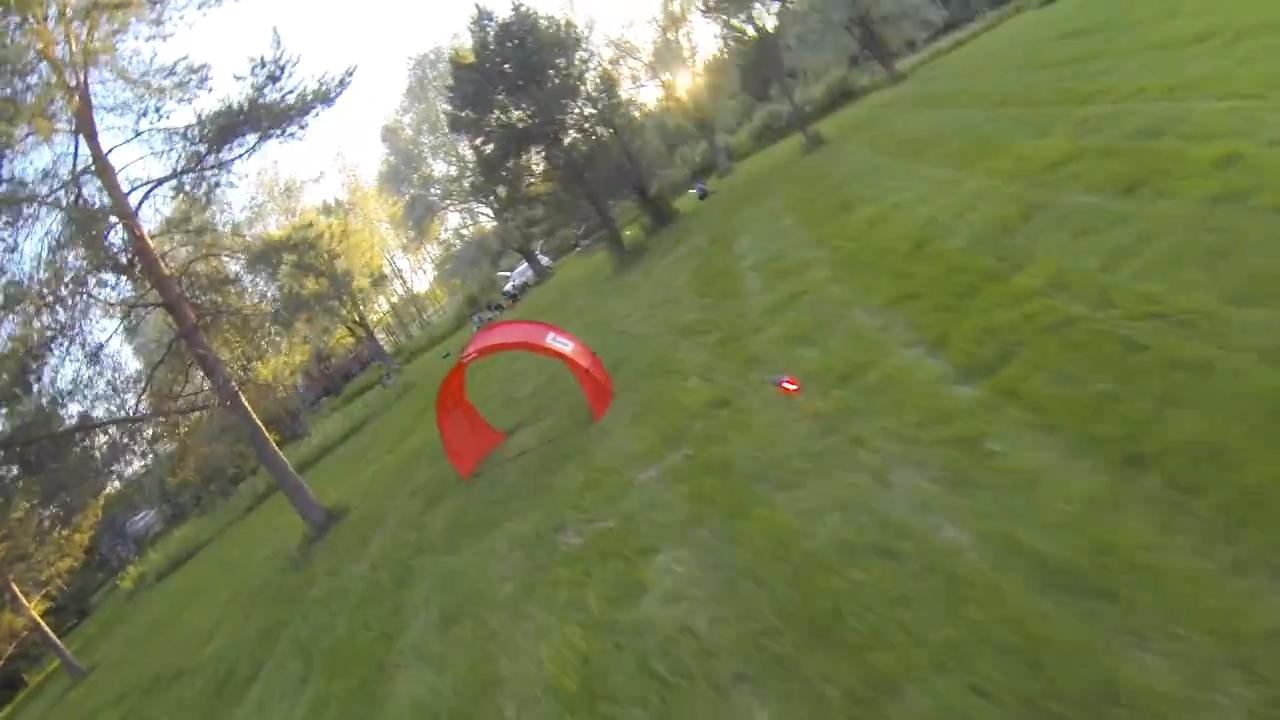gate: (430, 317, 619, 491)
